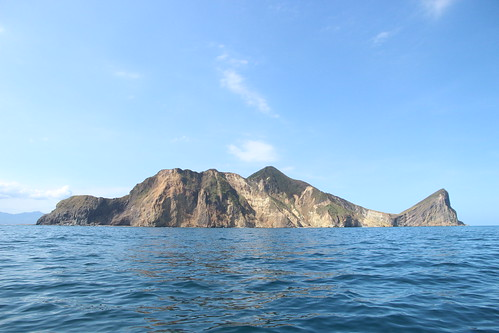turtleIsland: (39, 154, 462, 230)
